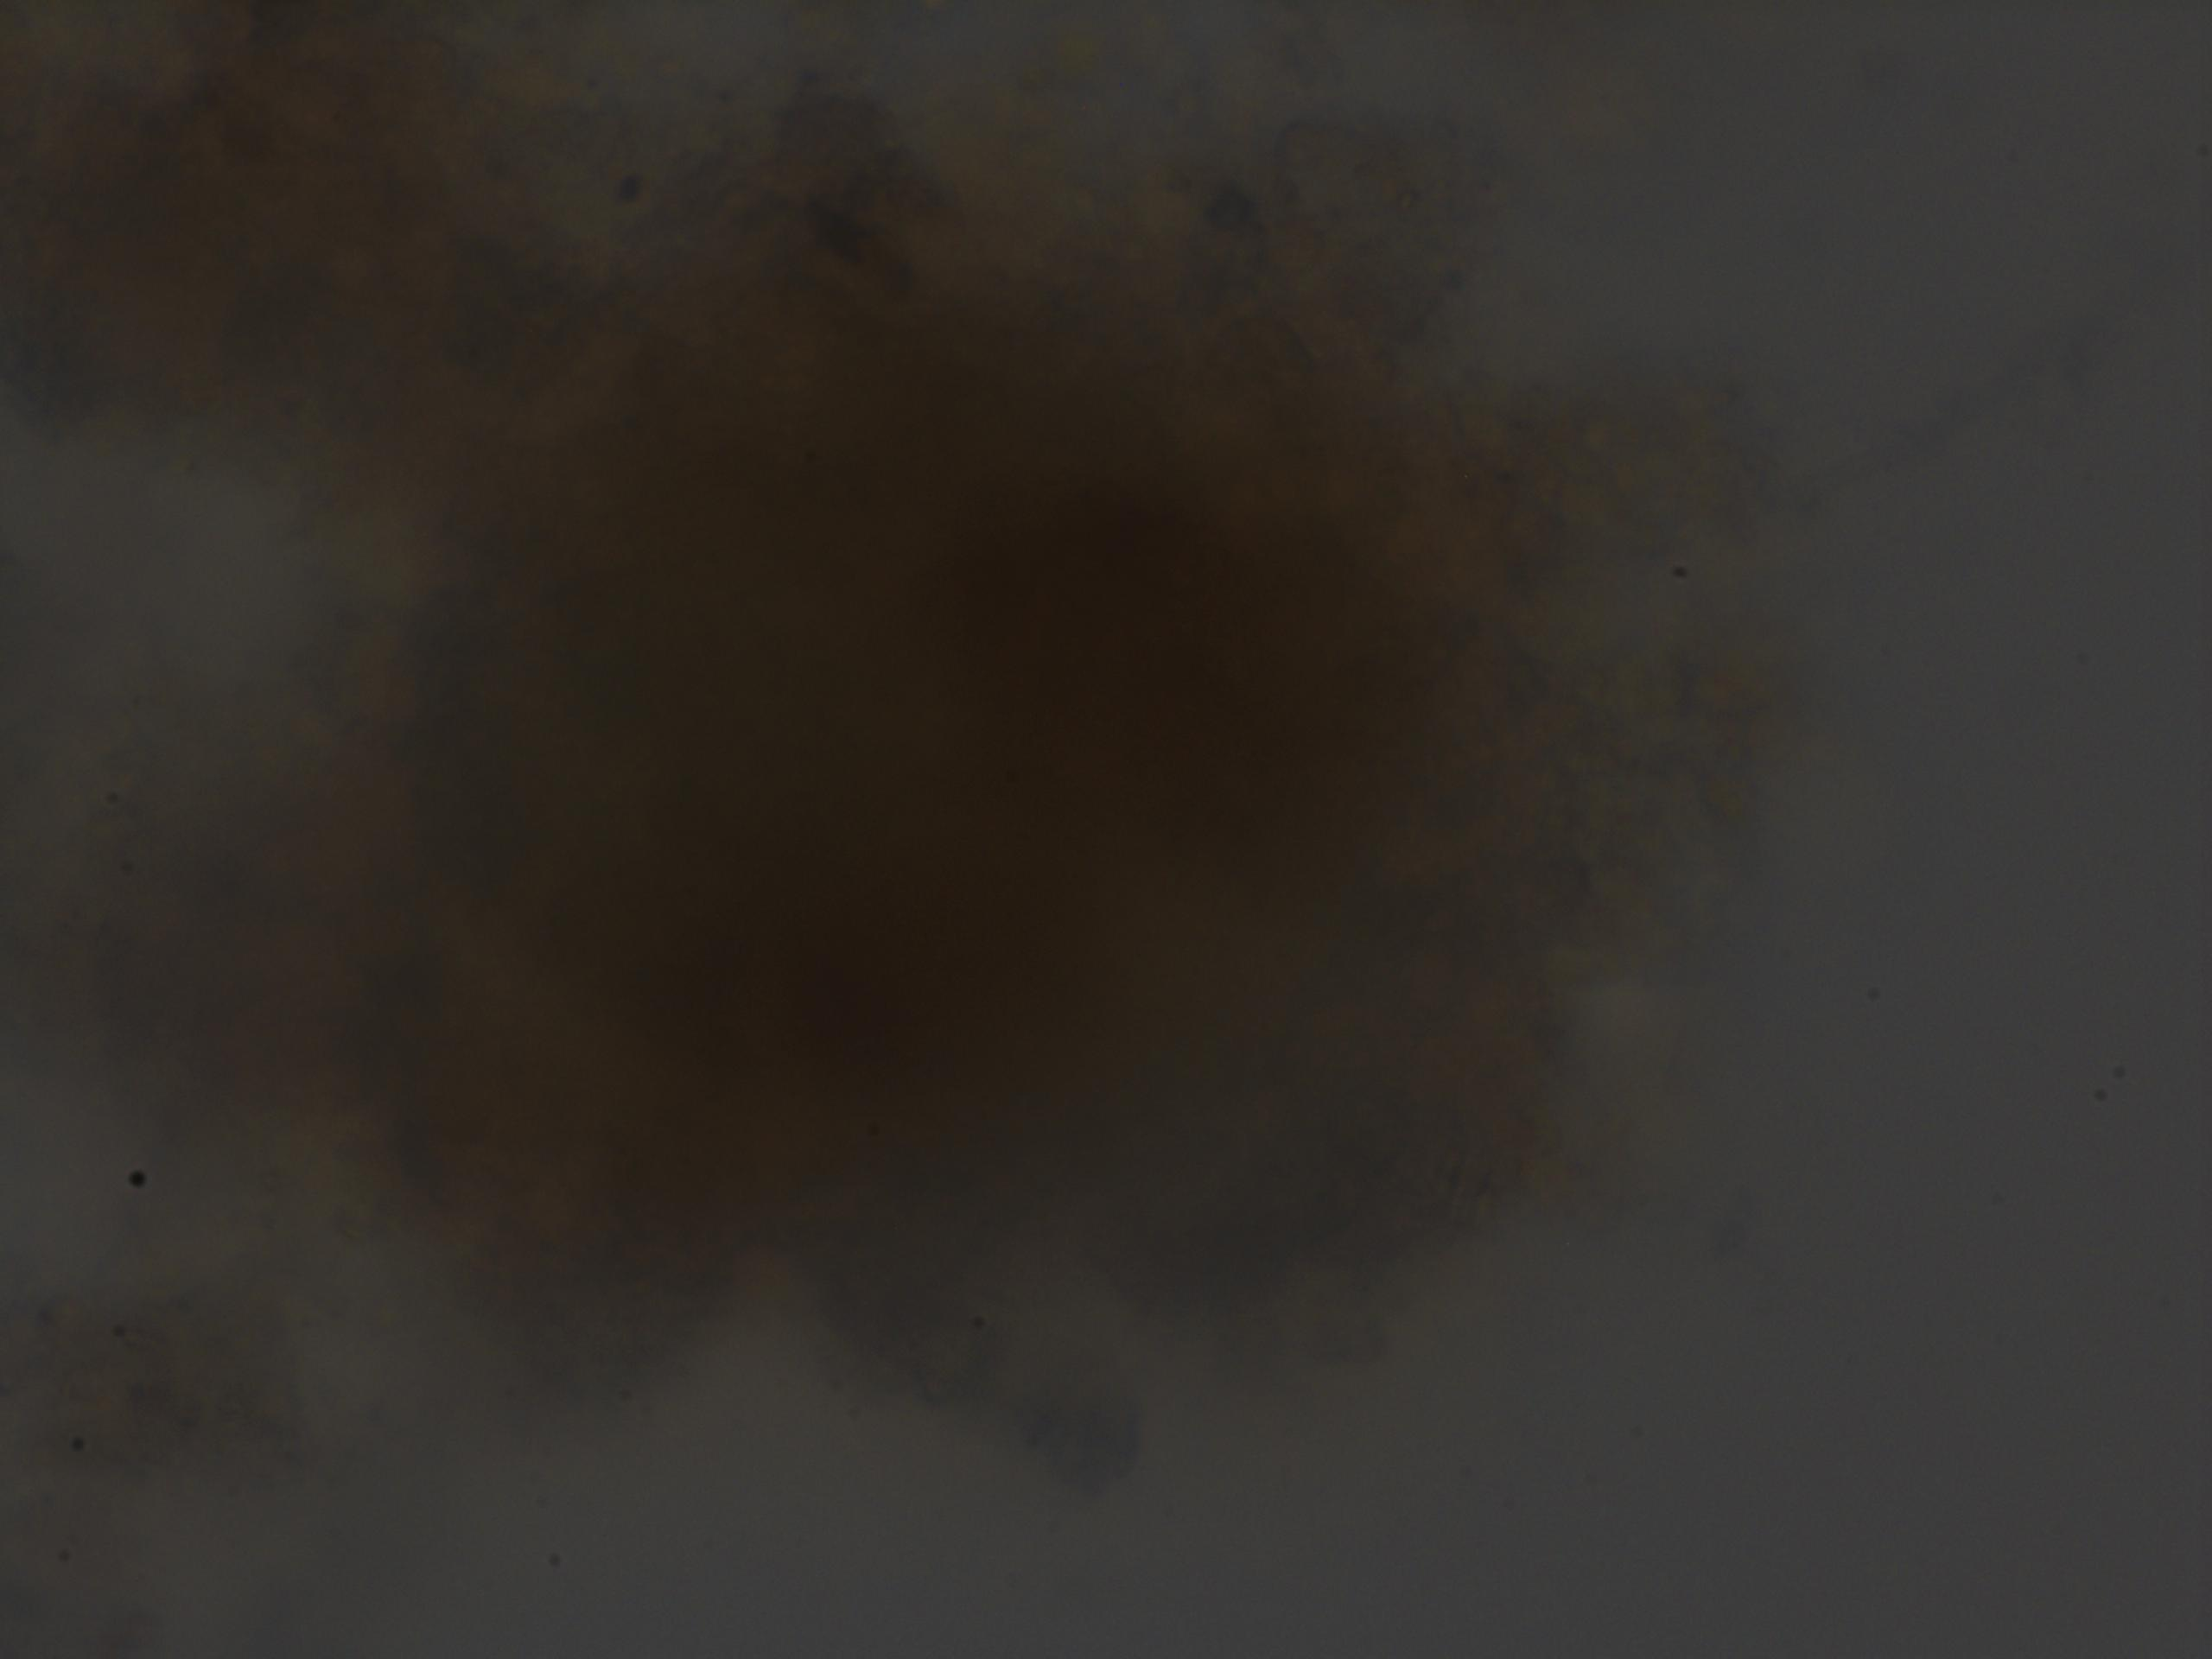spherical_floc: (282, 87, 1730, 1488)
